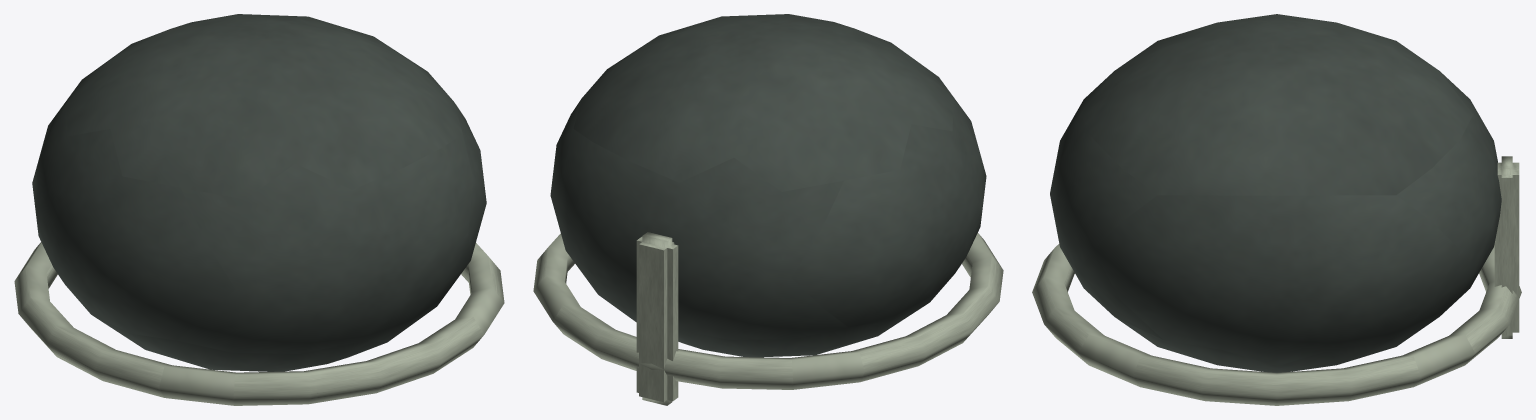
The model's file is item-IronHelmet.fbx.
3 views of the same model, side by side, from view 1: azimuth 30°, elevation 25°; view 2: azimuth 150°, elevation 25°; view 3: azimuth 270°, elevation 25° (orthographic). The views are drawn at different scales.
Visible parts, largest first — view 1: item-IronHelmet__Geometry; view 2: item-IronHelmet__Geometry; view 3: item-IronHelmet__Geometry.
Part boxes in pixels (x1=…): item-IronHelmet__Geometry: x1=14, y1=14, x2=504, y2=405; item-IronHelmet__Geometry: x1=533, y1=14, x2=1003, y2=405; item-IronHelmet__Geometry: x1=1032, y1=14, x2=1521, y2=405.
Size of the model in its own units: 0.496 by 0.34 by 0.496.
1 material, 1 textured.
